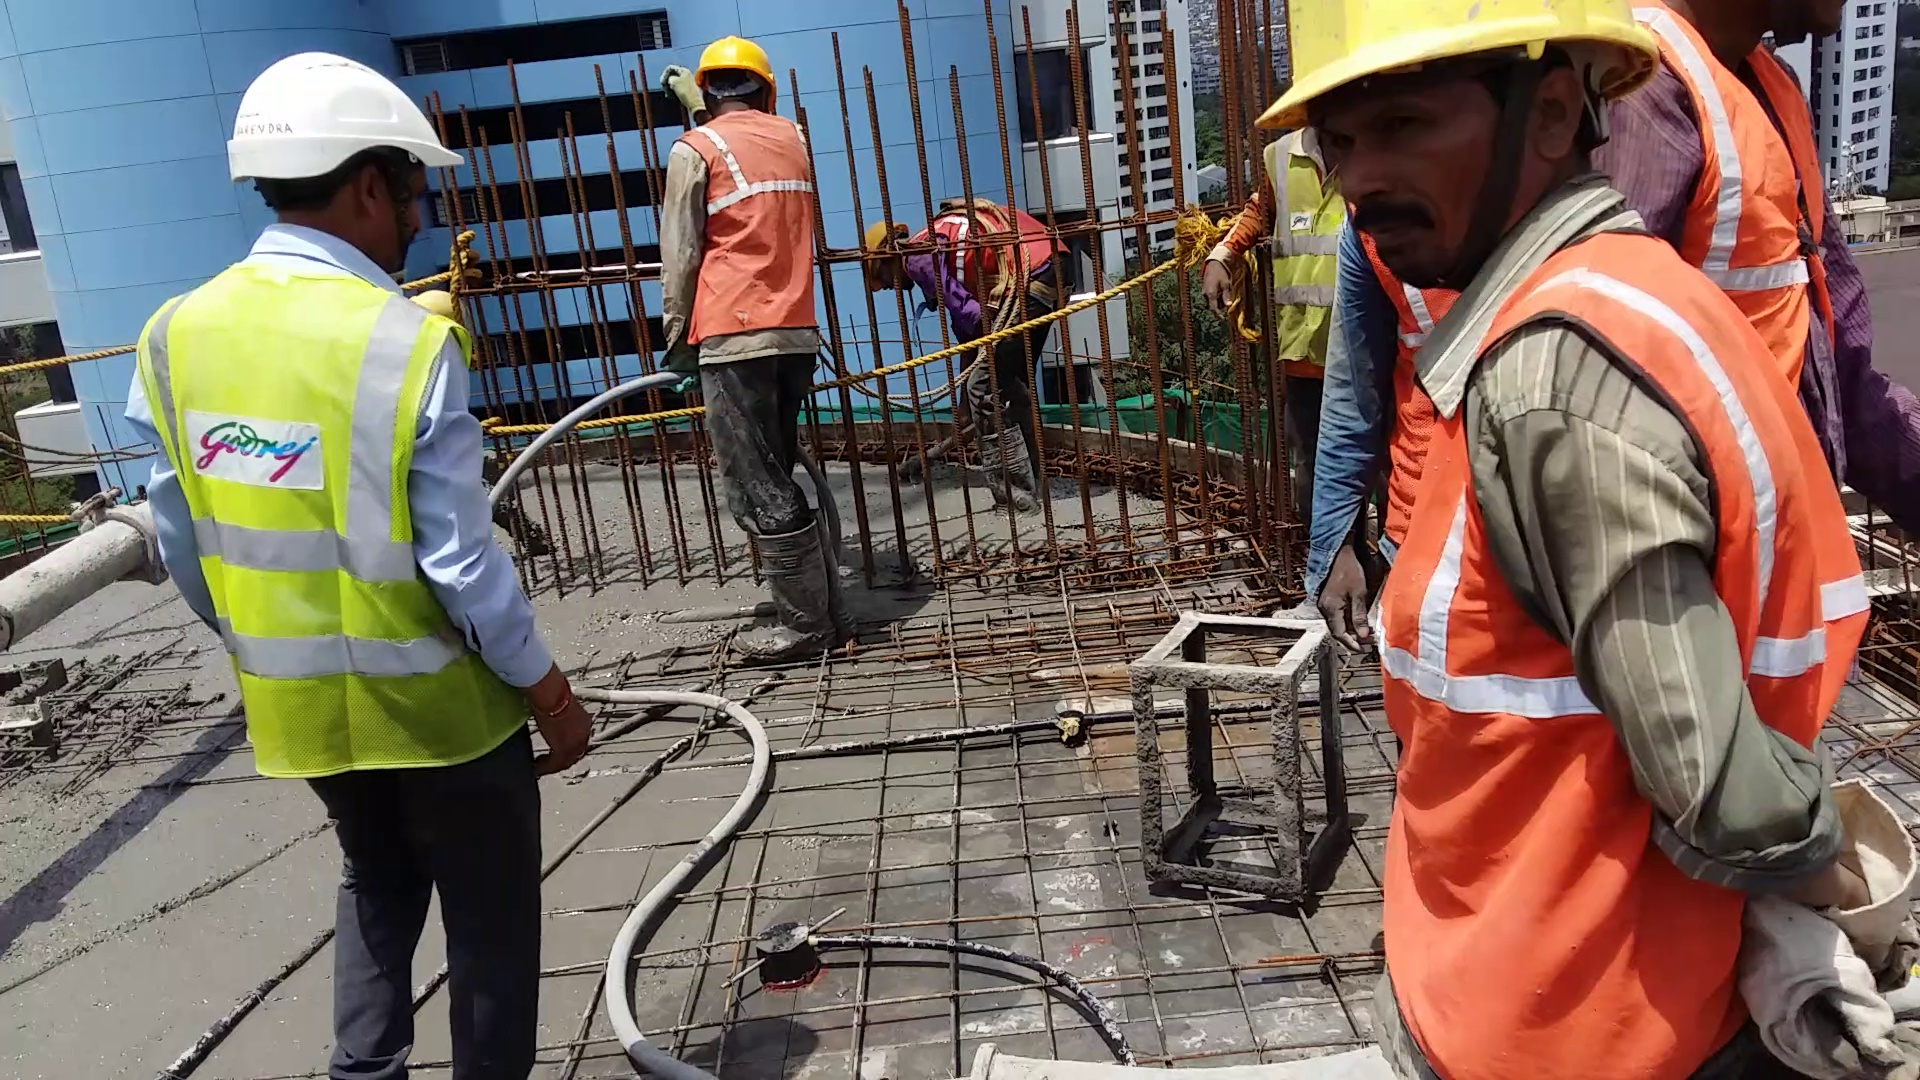SAFE: (1274, 5, 1815, 1077), (165, 49, 460, 767), (667, 33, 823, 351)
